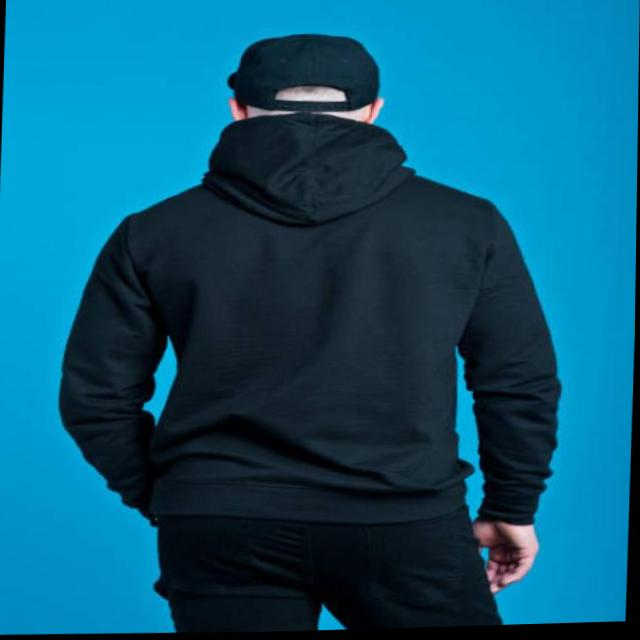no helmet: (201, 25, 416, 176)
